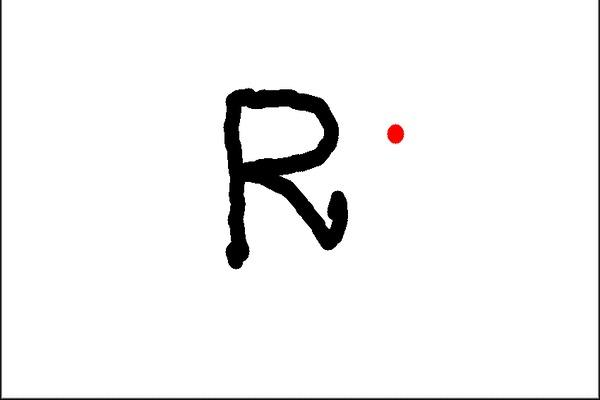R: (211, 79, 357, 274)
